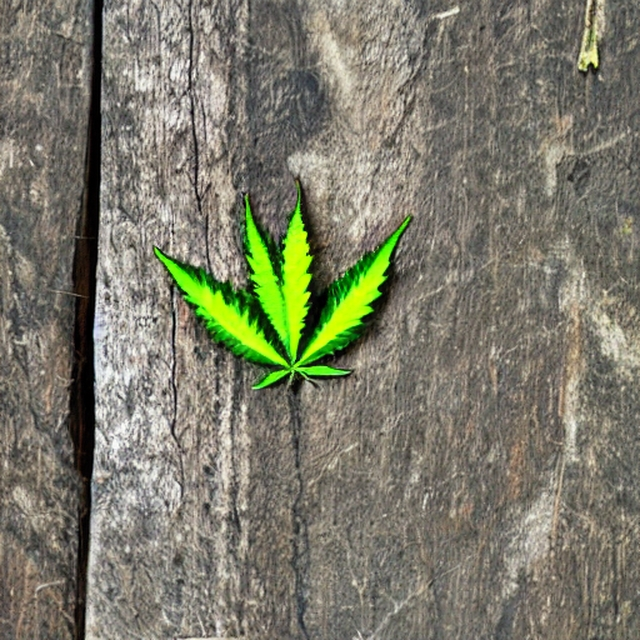Marijuana Leaf: (151, 175, 414, 391)
